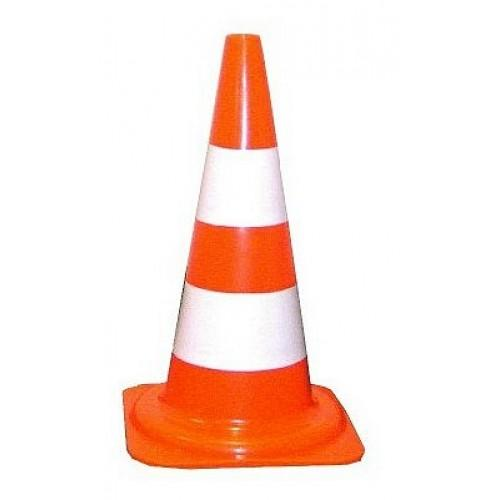traffic_cone: (122, 32, 366, 469)
